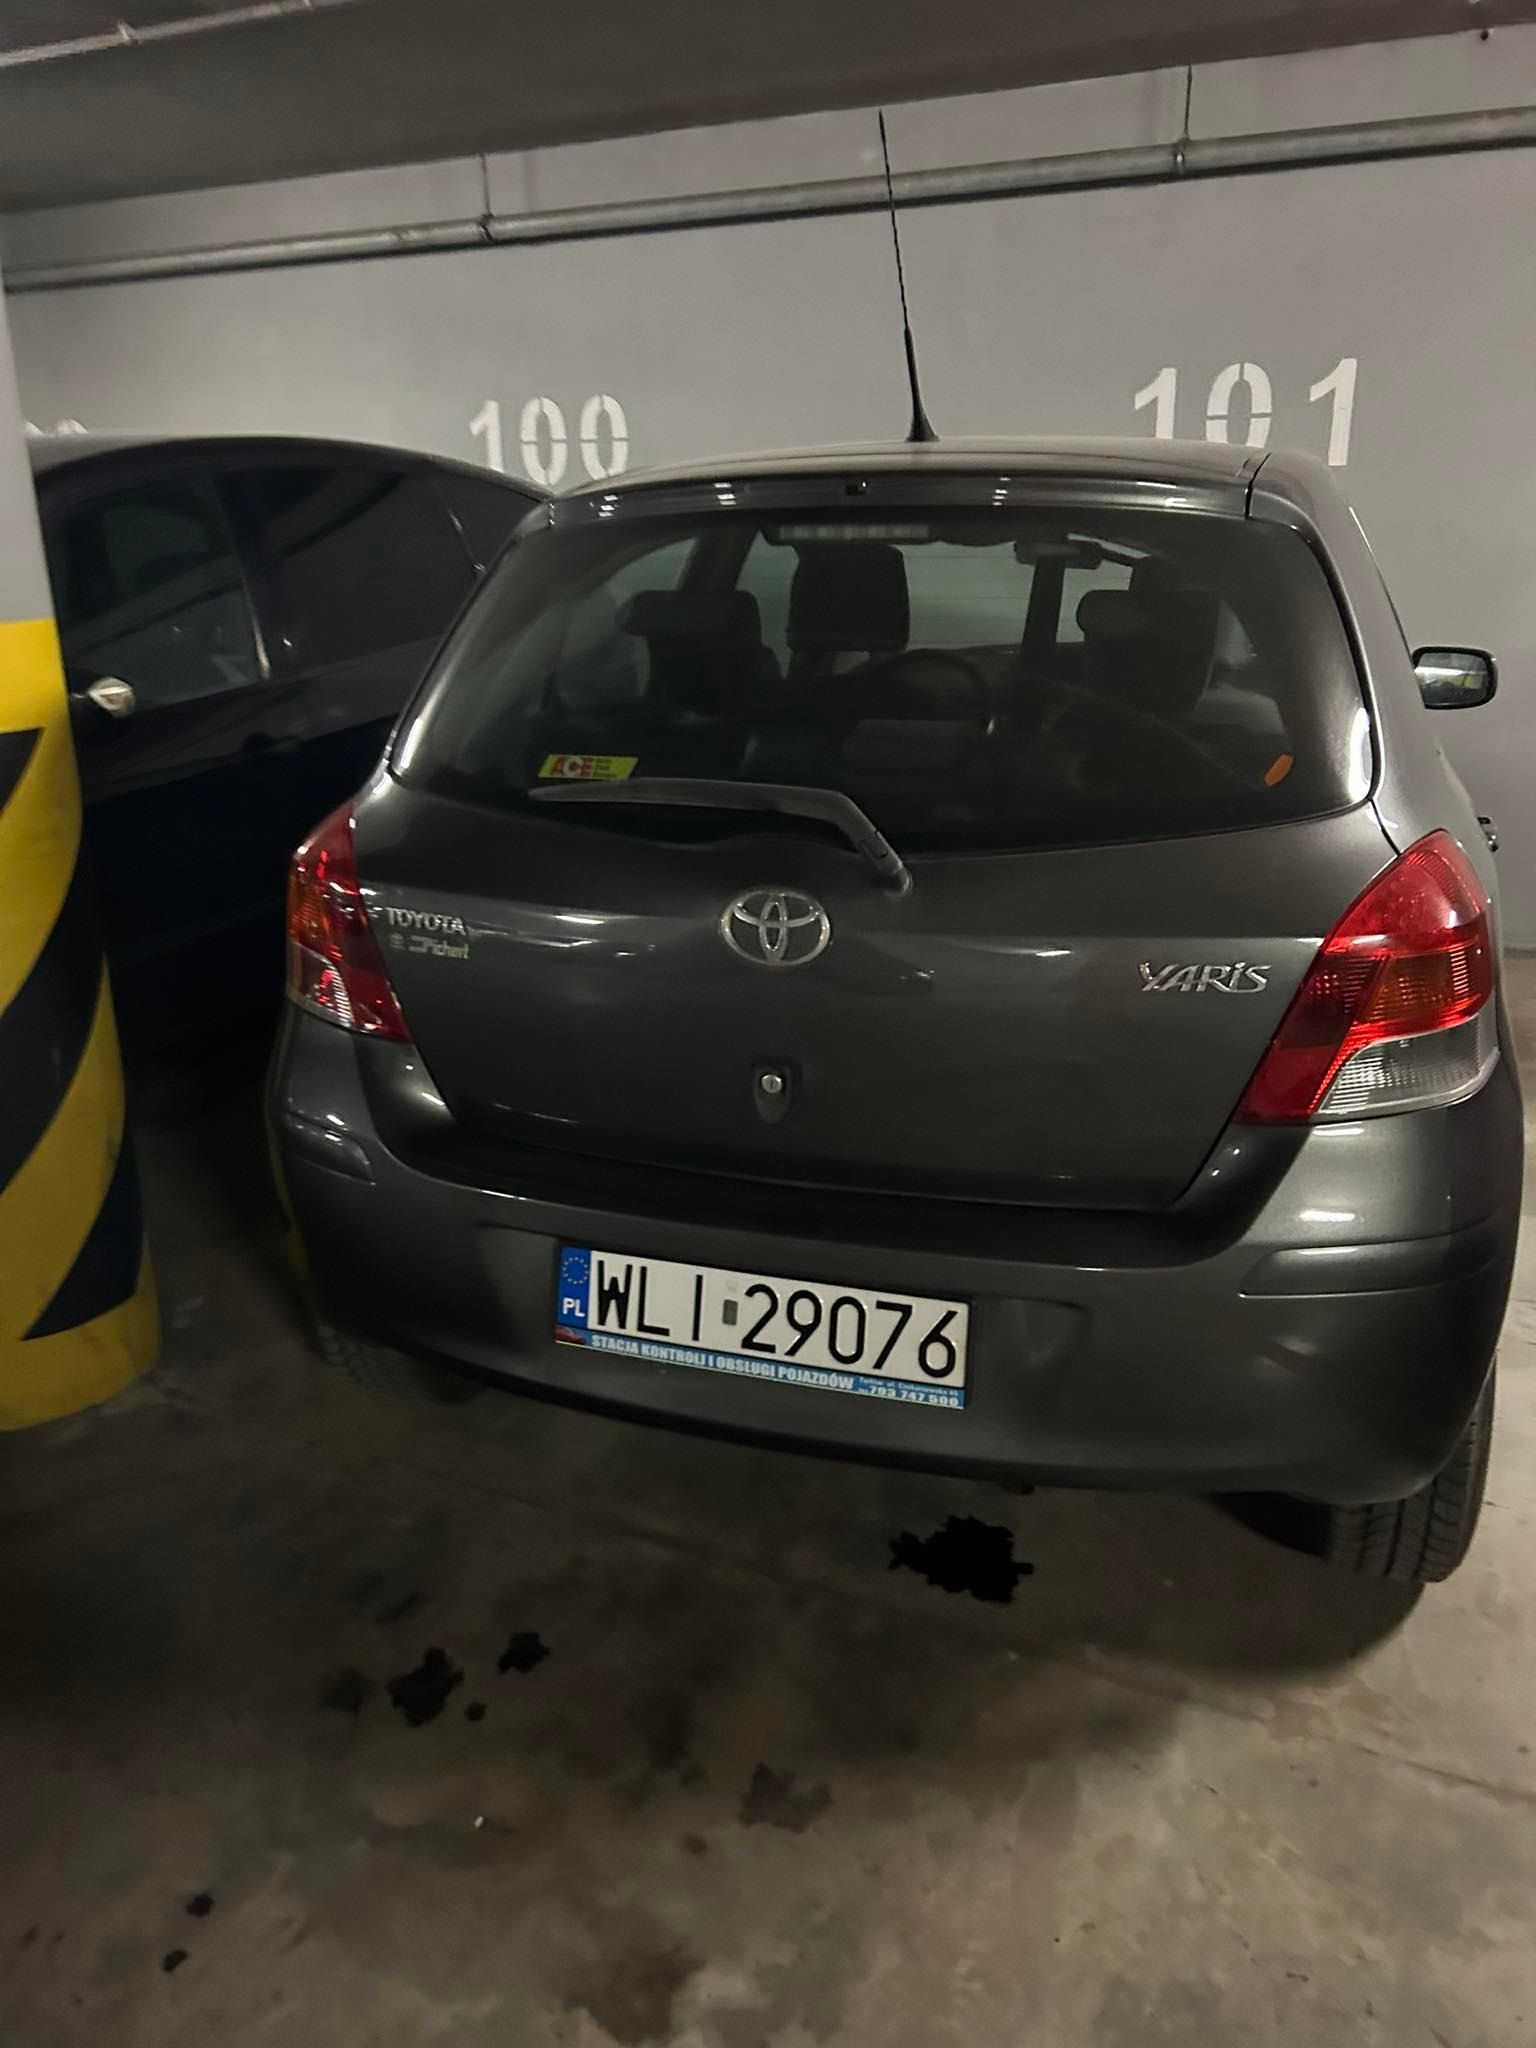number_plate: (550, 1232, 968, 1419)
